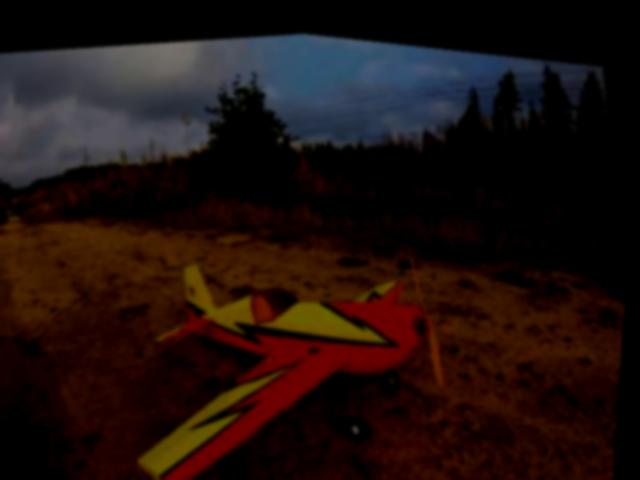uav: (98, 204, 475, 480)
